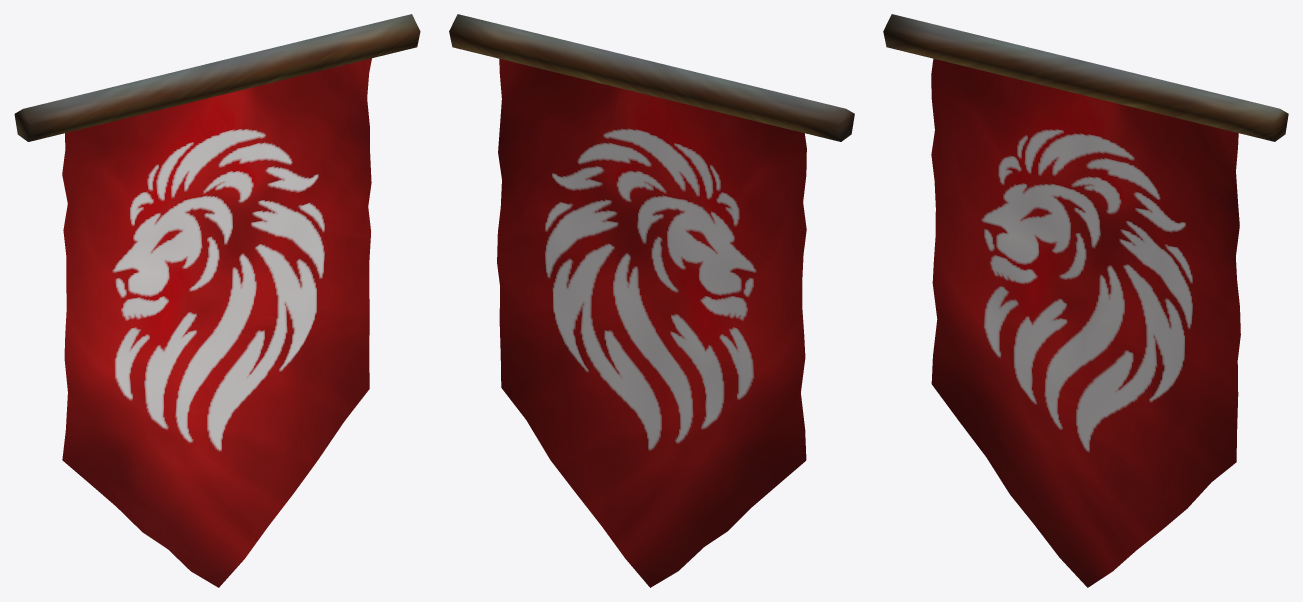
File: banner_1.glb
3 views of the same model, side by side, from view 1: azimuth 30°, elevation 25°; view 2: azimuth 150°, elevation 25°; view 3: azimuth 330°, elevation 25° (orthographic).
Parts seen in each view (by area): view 1: banner_mesh; view 2: banner_mesh; view 3: banner_mesh.
Boxes of the visible parts, x1,y1,x2,y2 form: banner_mesh: (14, 14, 420, 587); banner_mesh: (449, 14, 854, 587); banner_mesh: (883, 14, 1288, 587).
Bounding box in the file's own units: 2.55 × 3.31 × 0.194.
2 materials, 2 textured.
